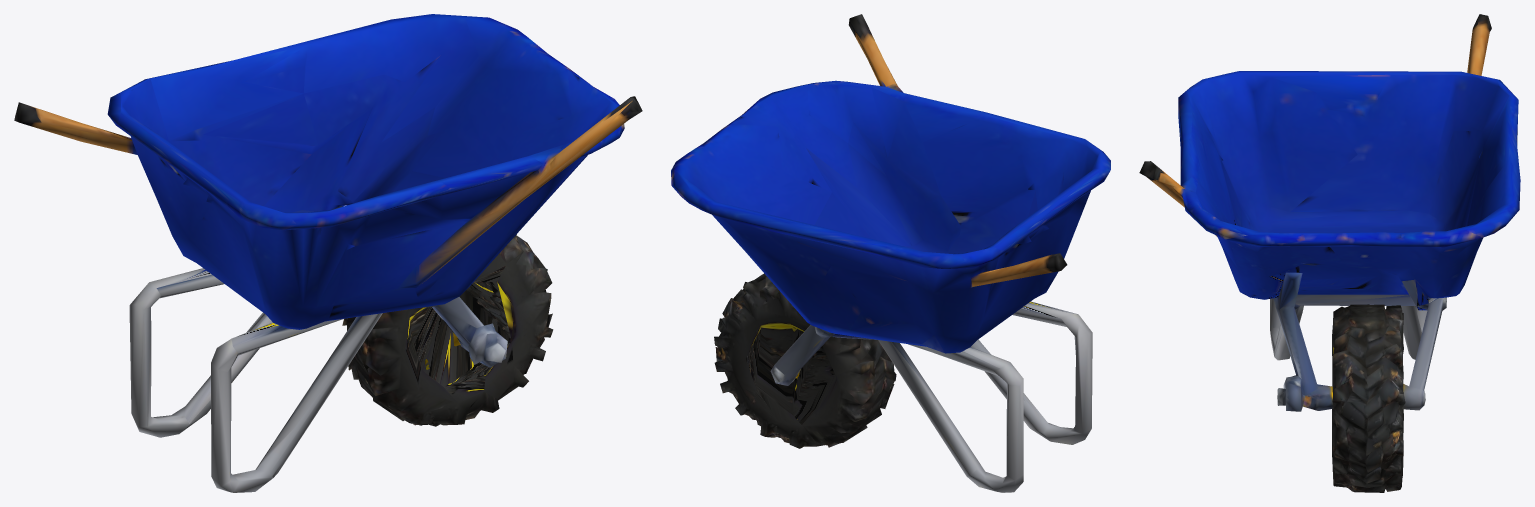
File: el_arabasi_lod2.glb
3 renders of one model, left to right at view 1: azimuth 30°, elevation 25°; view 2: azimuth 150°, elevation 25°; view 3: azimuth 270°, elevation 25°, orthographic. The views are drawn at different scales.
Parts seen in each view (by area): view 1: el_arabasi_lod2; view 2: el_arabasi_lod2; view 3: el_arabasi_lod2.
Boxes of the visible parts, x1,y1,x2,y2 form: el_arabasi_lod2: (14, 14, 642, 492); el_arabasi_lod2: (671, 14, 1110, 492); el_arabasi_lod2: (1139, 14, 1520, 492).
Size of the model in its own units: 1.08 by 0.8484 by 0.8384.
Materials: 3 (3 with a texture image).
